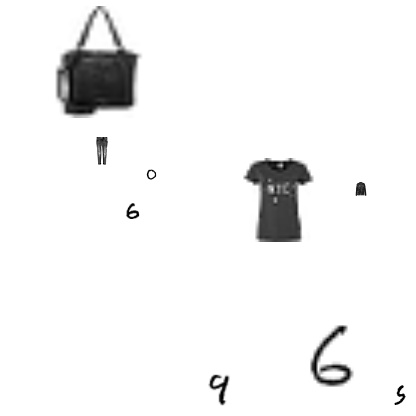0: (144, 167, 158, 181)
5: (386, 381, 414, 409)
6: (287, 317, 371, 401), (121, 201, 143, 223)
9: (198, 366, 240, 408)
Bag: (41, 6, 153, 118)
Shirt: (354, 182, 368, 196)
T-shirt/top: (235, 158, 319, 242)
Trouser: (88, 137, 116, 165)
